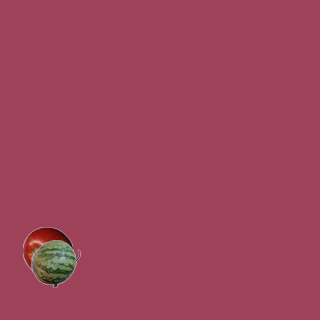Apple Braeburn: (22, 226, 72, 276)
Watermelon: (30, 238, 80, 288)
